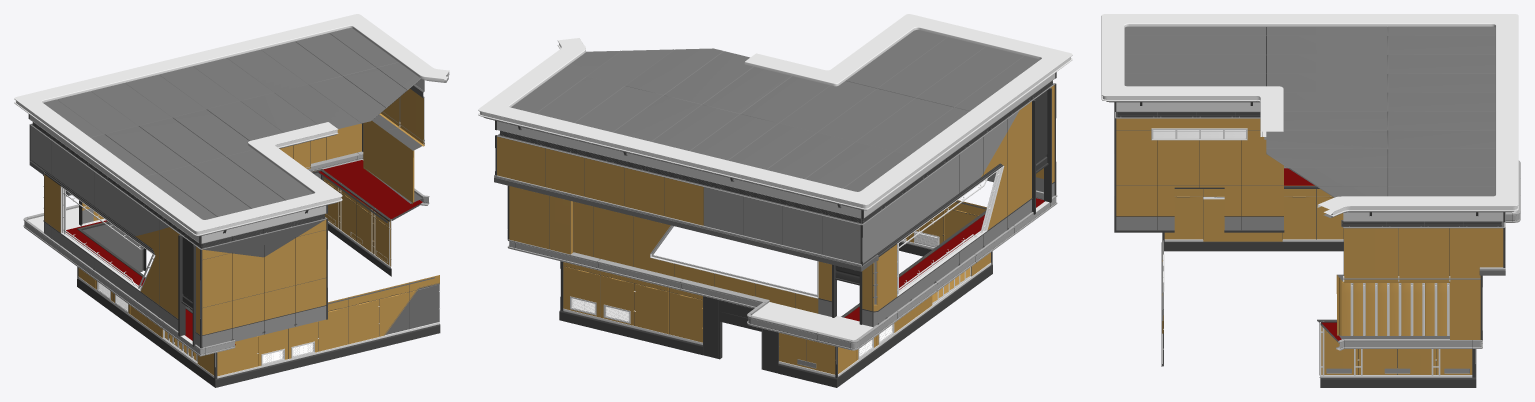
3 views of the same model, side by side, from view 1: azimuth 30°, elevation 25°; view 2: azimuth 150°, elevation 25°; view 3: azimuth 270°, elevation 25° (orthographic). The views are drawn at different scales.
Parts seen in each view (by area): view 1: SM_H_Building_FutureTech_Dock_06; view 2: SM_H_Building_FutureTech_Dock_06; view 3: SM_H_Building_FutureTech_Dock_06.
Boxes of the visible parts, x1,y1,x2,y2 form: SM_H_Building_FutureTech_Dock_06: (14,14,449,387); SM_H_Building_FutureTech_Dock_06: (478,14,1072,387); SM_H_Building_FutureTech_Dock_06: (1101,14,1520,387).
Bounding box in the file's own units: 964 × 1074 × 538.
